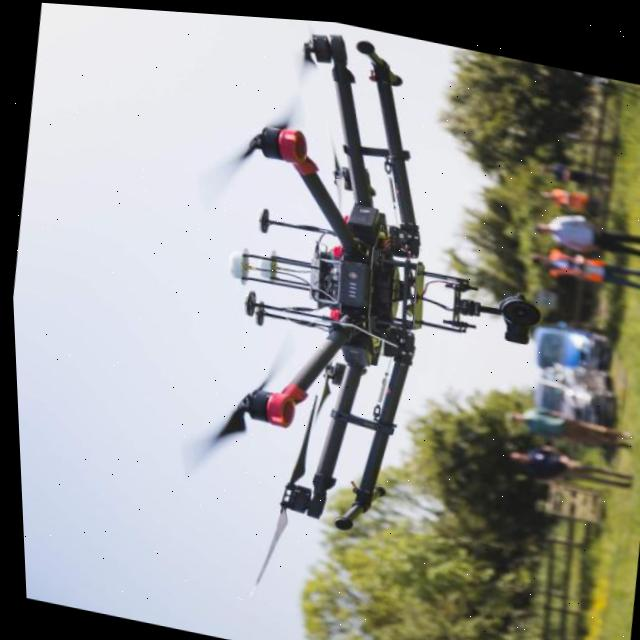drones: (62, 3, 589, 640)
